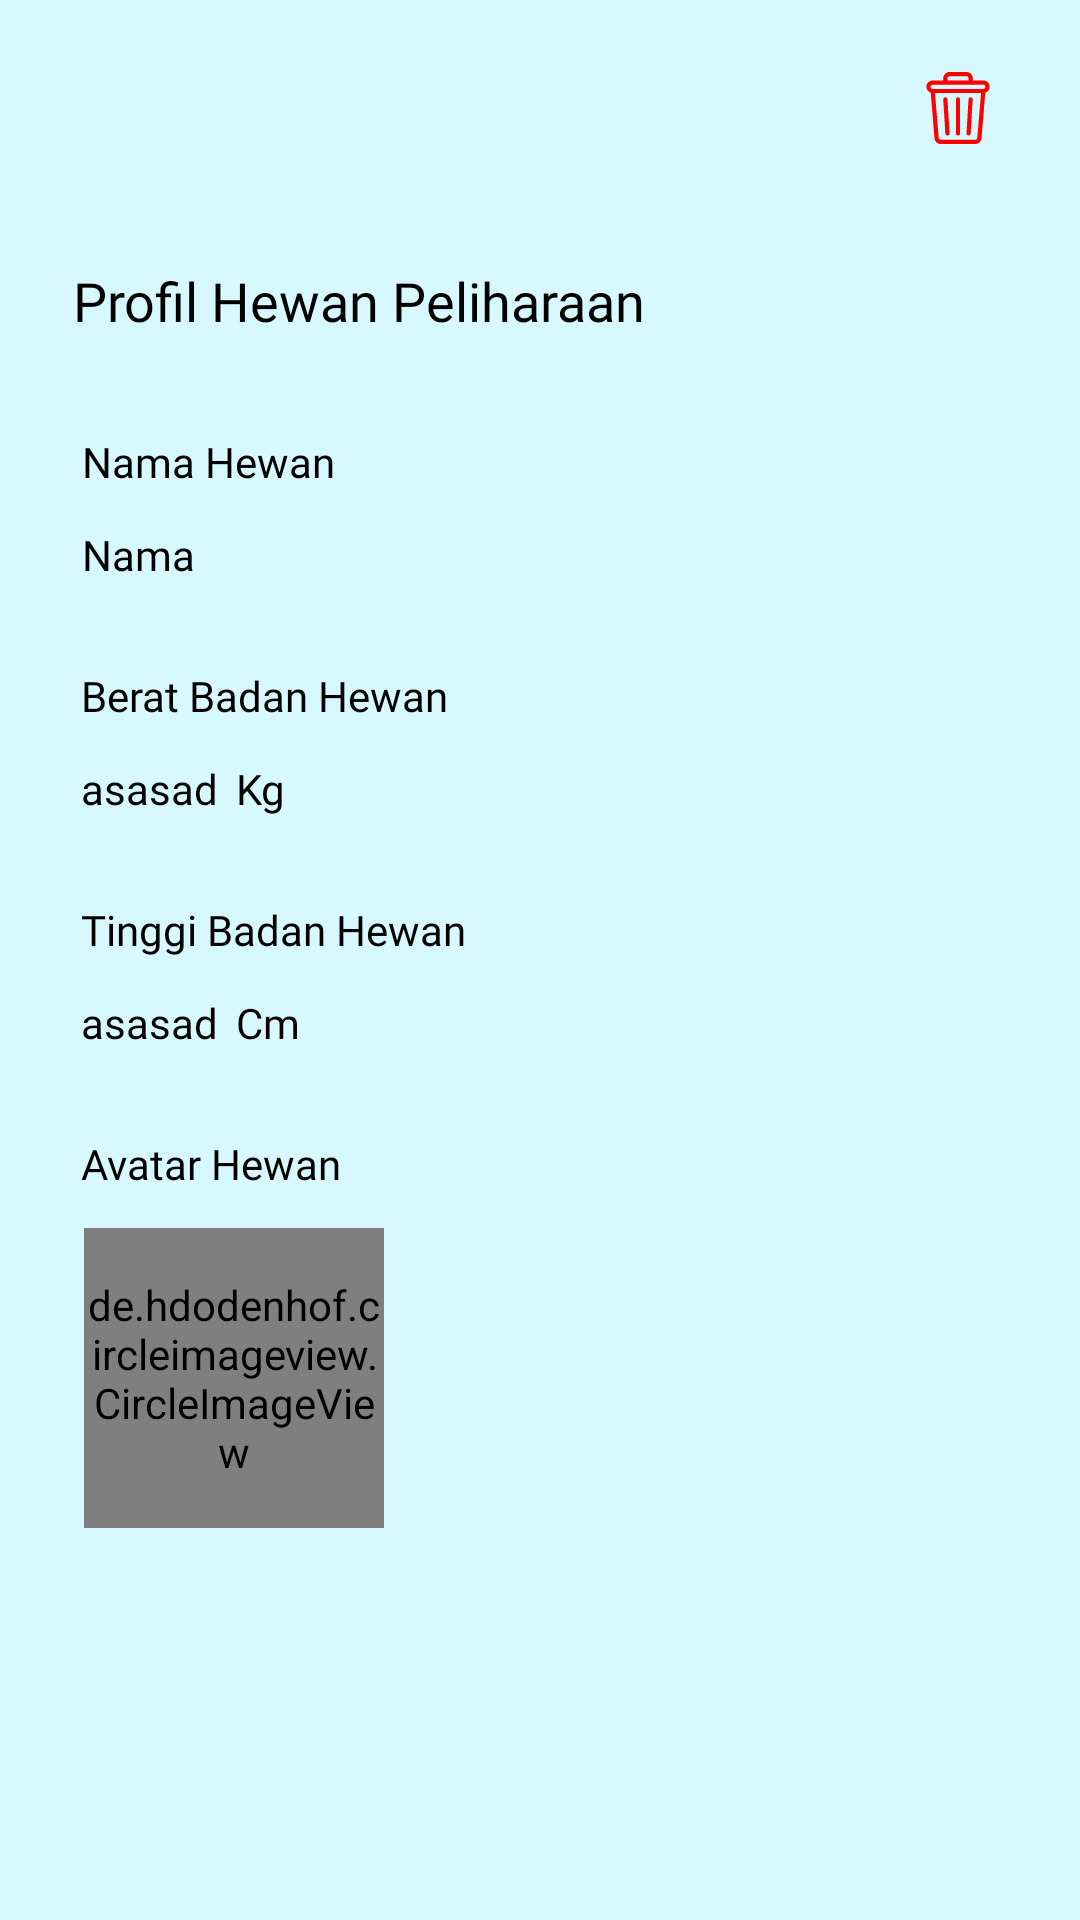

Named icons in this screenshot (1080x1920) and their bounding boxes, (x1, y1, x2, y2):
Hapus: (926, 72, 990, 144)
